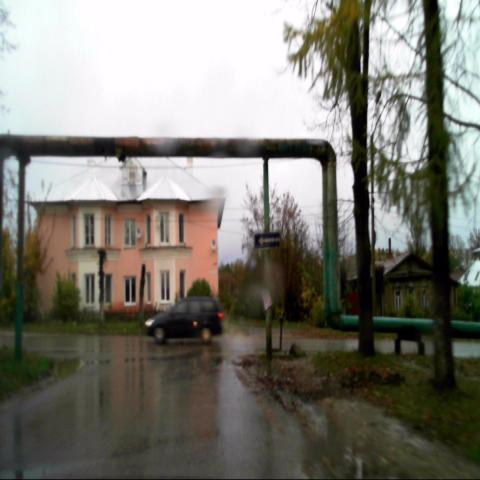5_7_2: (255, 232, 280, 248)
